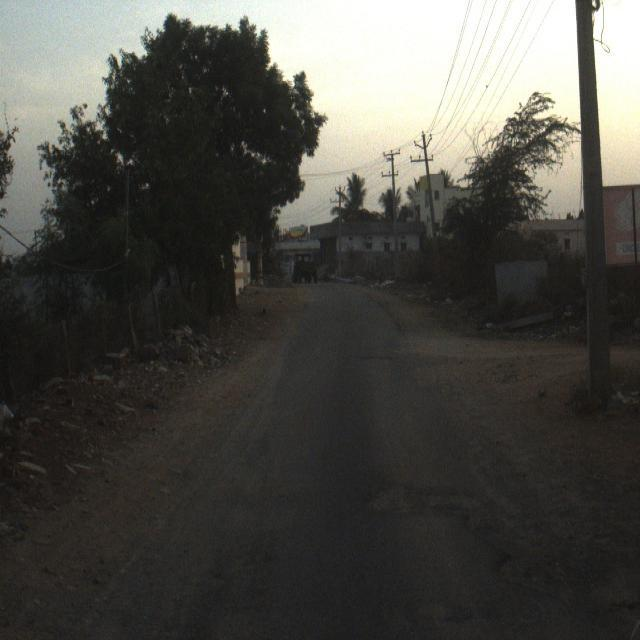pothole: (348, 450, 463, 551), (150, 528, 238, 640), (481, 536, 573, 640), (324, 328, 400, 402), (393, 569, 472, 640)
